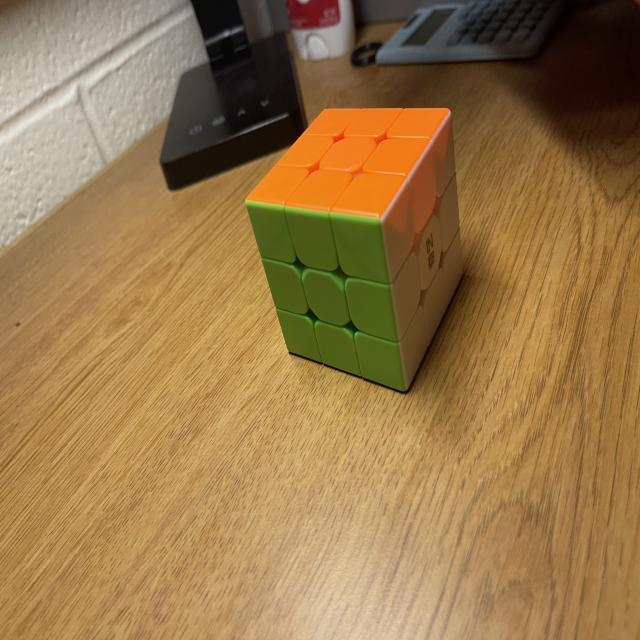Rubiks Cube: (245, 109, 464, 392)
